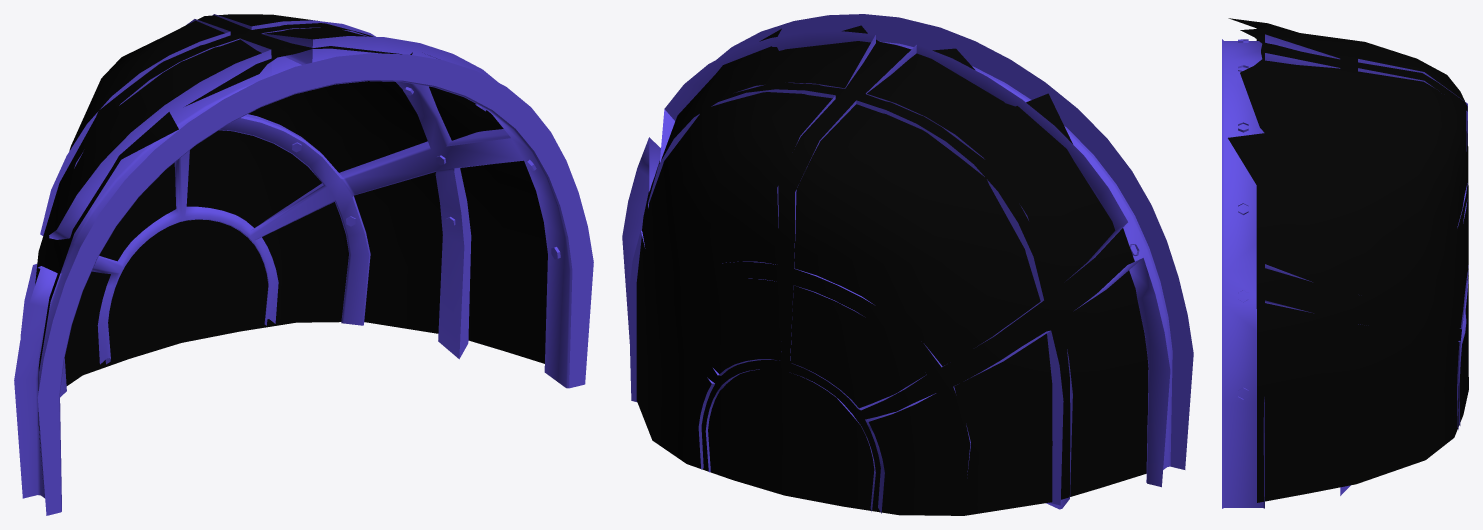
The model's file is bai_vitré.FBX.
3 renders of one model, left to right at view 1: azimuth 30°, elevation 25°; view 2: azimuth 150°, elevation 25°; view 3: azimuth 270°, elevation 25°, orthographic. The views are drawn at different scales.
Parts seen in each view (by area): view 1: bai_vitre; view 2: bai_vitre; view 3: bai_vitre.
Boxes of the visible parts, x1=… form: bai_vitre: x1=14, y1=14, x2=593, y2=515; bai_vitre: x1=622, y1=14, x2=1193, y2=515; bai_vitre: x1=1222, y1=18, x2=1468, y2=508.
Bounding box in the file's own units: 865 × 589 × 366.
